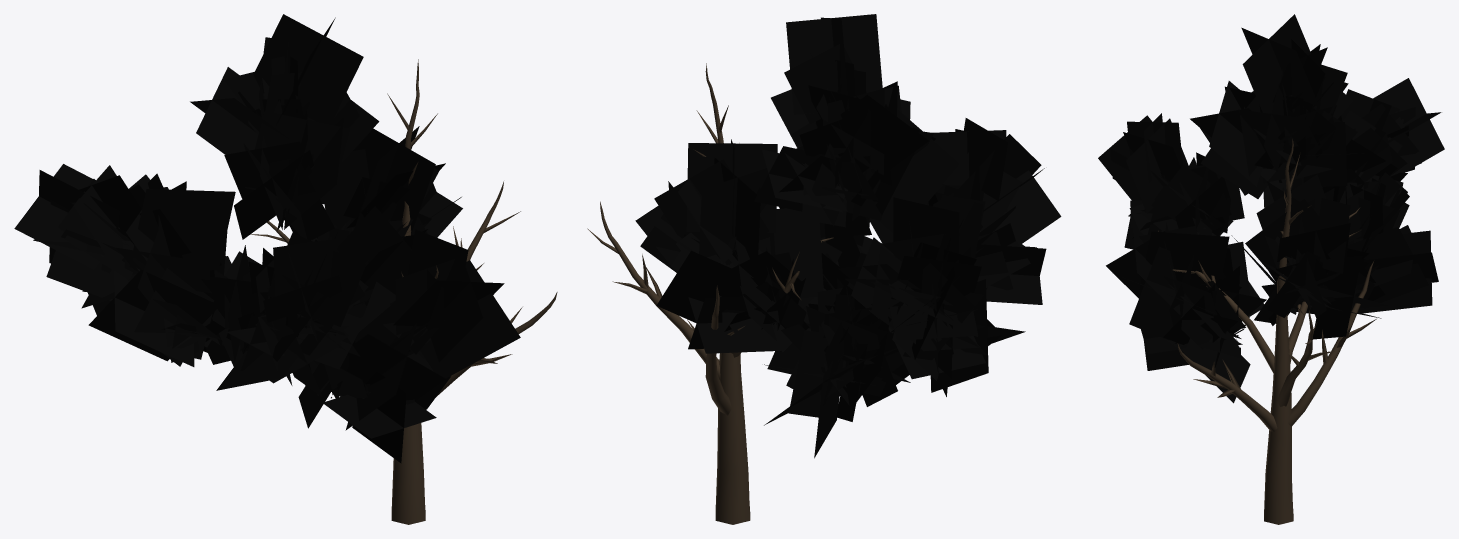
Rendered from no_leaves_tree_seven.glb.
The picture shows the model from 3 angles, left to right: view 1: azimuth 30°, elevation 25°; view 2: azimuth 150°, elevation 25°; view 3: azimuth 270°, elevation 25°; orthographic projection. The views are drawn at different scales.
Parts seen in each view (by area): view 1: leaves.004_9.006, trunk.004_10.006; view 2: leaves.004_9.006, trunk.004_10.006; view 3: leaves.004_9.006, trunk.004_10.006.
Part boxes in pixels (<box>): leaves.004_9.006: <box>14,14,520,463</box>; trunk.004_10.006: <box>250,59,557,524</box>; leaves.004_9.006: <box>635,14,1061,458</box>; trunk.004_10.006: <box>587,63,833,524</box>; leaves.004_9.006: <box>1098,14,1444,403</box>; trunk.004_10.006: <box>1158,139,1376,524</box>.
Size of the model in its own units: 107 by 120 by 85.21.
Materials: 2 (2 with a texture image).
